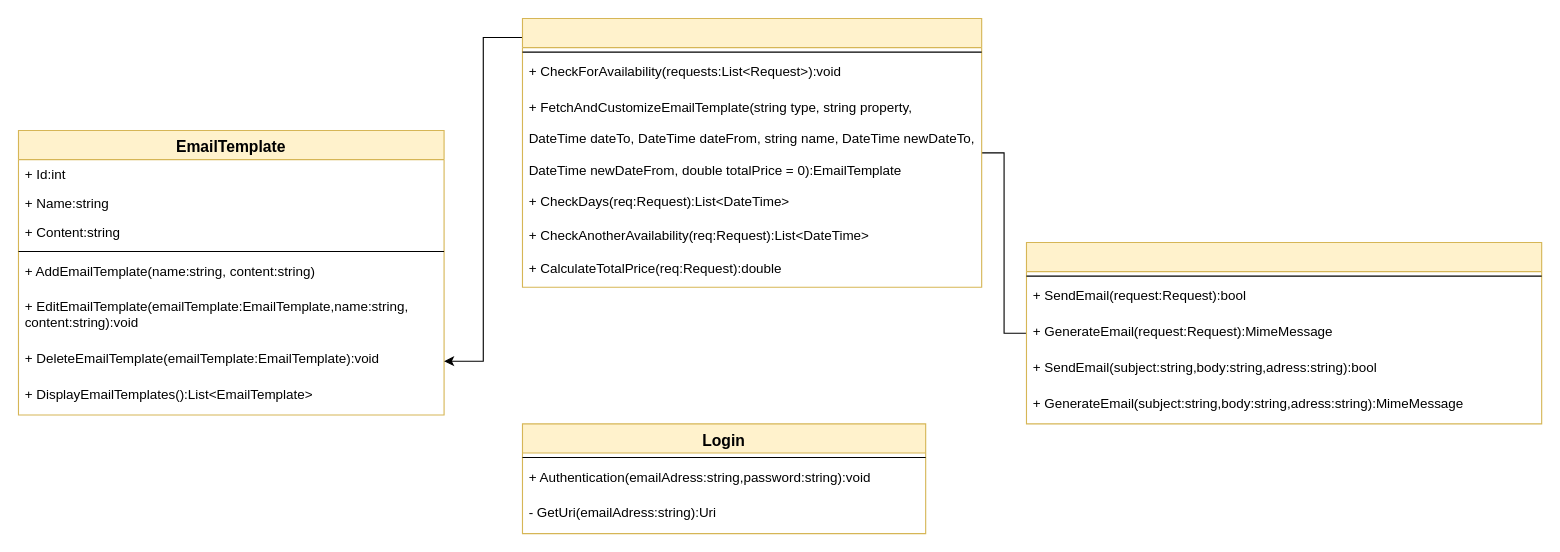
Image size: 1560x552. Some labels were removed from this diagram. Each missing label, with the box of its shape:
AvailabilityValidator: (521, 17, 982, 287)
EmailSender: (1025, 241, 1542, 424)
